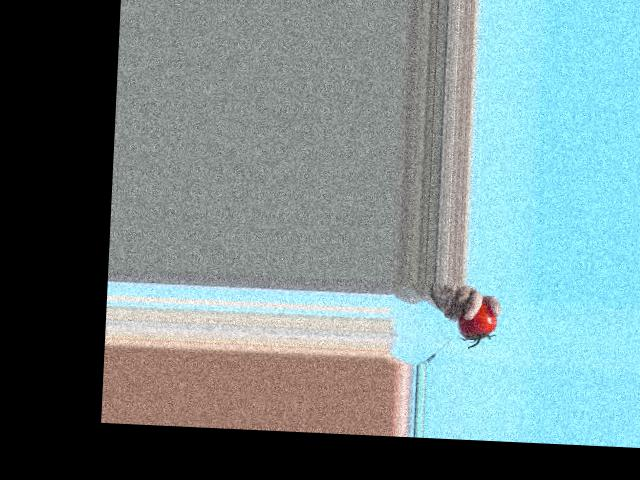tomato: (457, 300, 498, 340)
